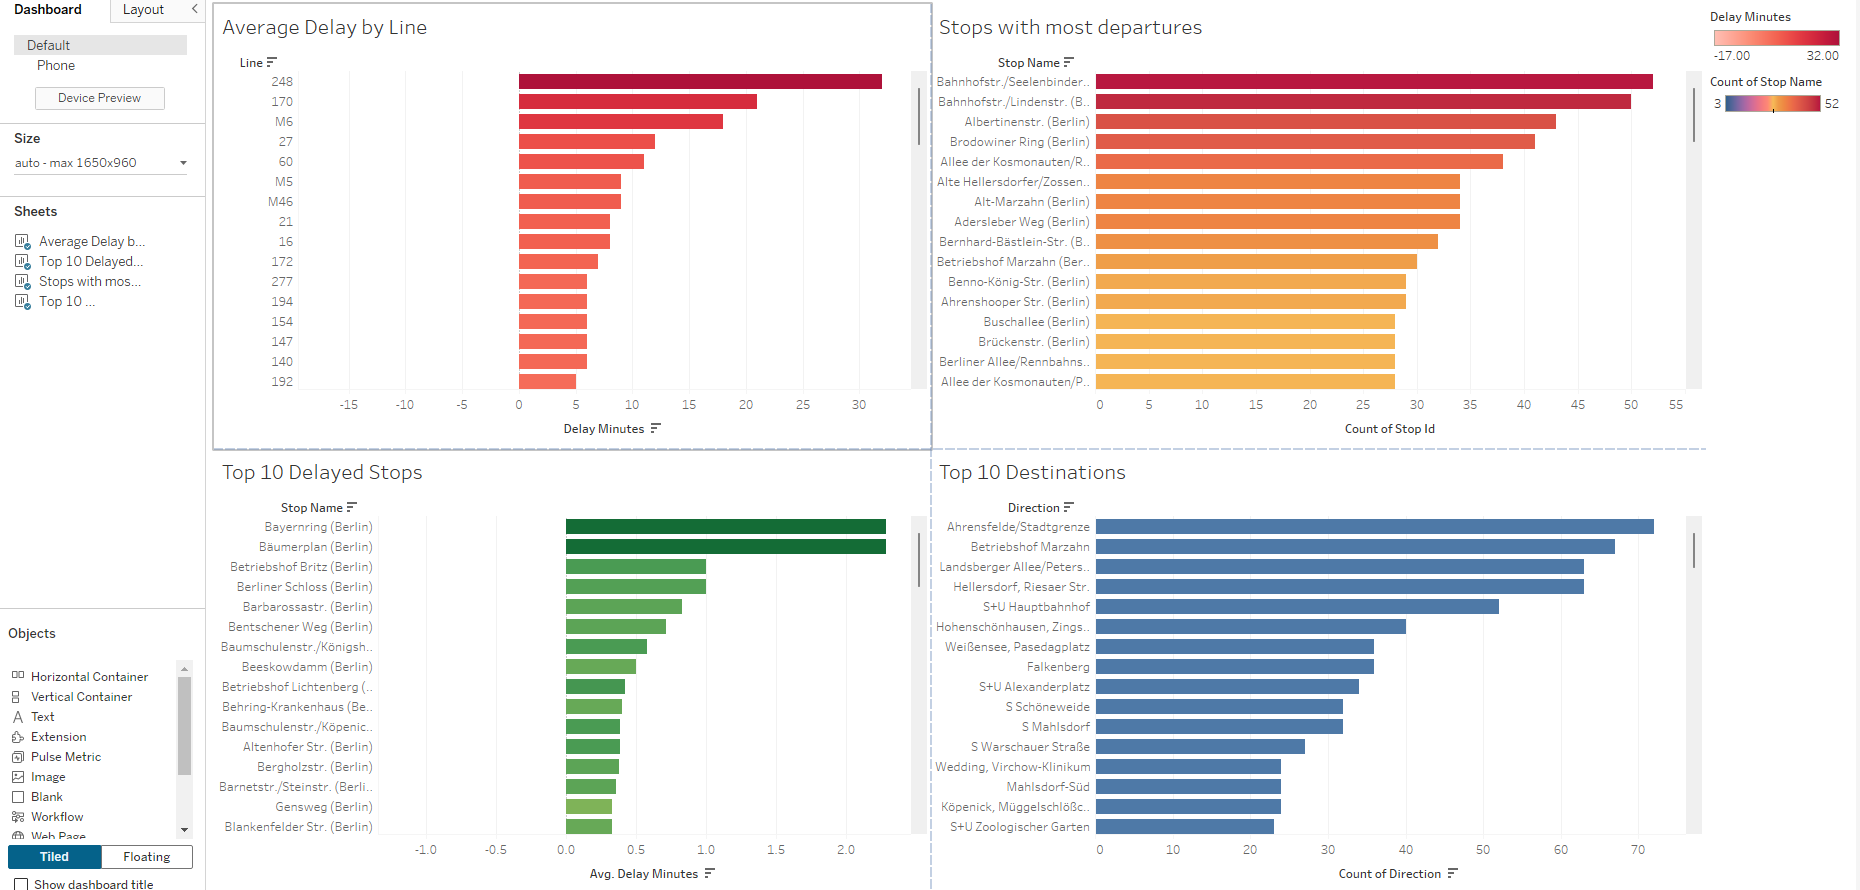

This screenshot's page, from the dashboard's own definition file:
{"tool":"tableau","page":{"name":"Dashboard 1","canvas":[1000,1000],"units":"permille","ordinal":0},"visuals":[{"type":"worksheet","title":"Average Delay by Line","mark":"Automatic","rows":["line"],"cols":["delay_minutes"],"box":[4.9,8.8,459.4,491.2]},{"type":"worksheet","title":"Stops with most departures","mark":"Automatic","rows":["stop_name"],"cols":["stop_id"],"box":[464.2,8.8,511.5,491.2]},{"type":"legend","title":"Average Delay by Line","param":"[federated.0p78i9b1bcvslk15w77rk056vv17].[sum:delay_minutes:qk]","box":[975.8,8.8,19.4,71.8]},{"type":"legend","title":"Stops with most departures","param":"[federated.0p78i9b1bcvslk15w77rk056vv17].[cnt:stop_name:qk]","box":[975.8,80.7,19.4,71.8]},{"type":"worksheet","title":"Top 10 Delayed Stops","mark":"Automatic","rows":["stop_name"],"cols":["delay_minutes"],"box":[4.9,500,466.7,491.2]},{"type":"worksheet","title":"Top 10 Destinations","mark":"Automatic","rows":["direction"],"cols":["direction"],"box":[471.5,500,504.2,491.2]}]}

Visuals, with their boxes on the dashboard's canvas, which has no fixed pixel size, in thousandths of its width and height (x1, y1, x2, y2). These are canvas units, not pixel positions in the 1860x890 screenshot, which may show the page scaled, cropped or inside an application window:
"Average Delay by Line" worksheet: 5,9,464,500
"Stops with most departures" worksheet: 464,9,976,500
"Average Delay by Line" legend: 976,9,995,81
"Stops with most departures" legend: 976,81,995,152
"Top 10 Delayed Stops" worksheet: 5,500,472,991
"Top 10 Destinations" worksheet: 472,500,976,991
